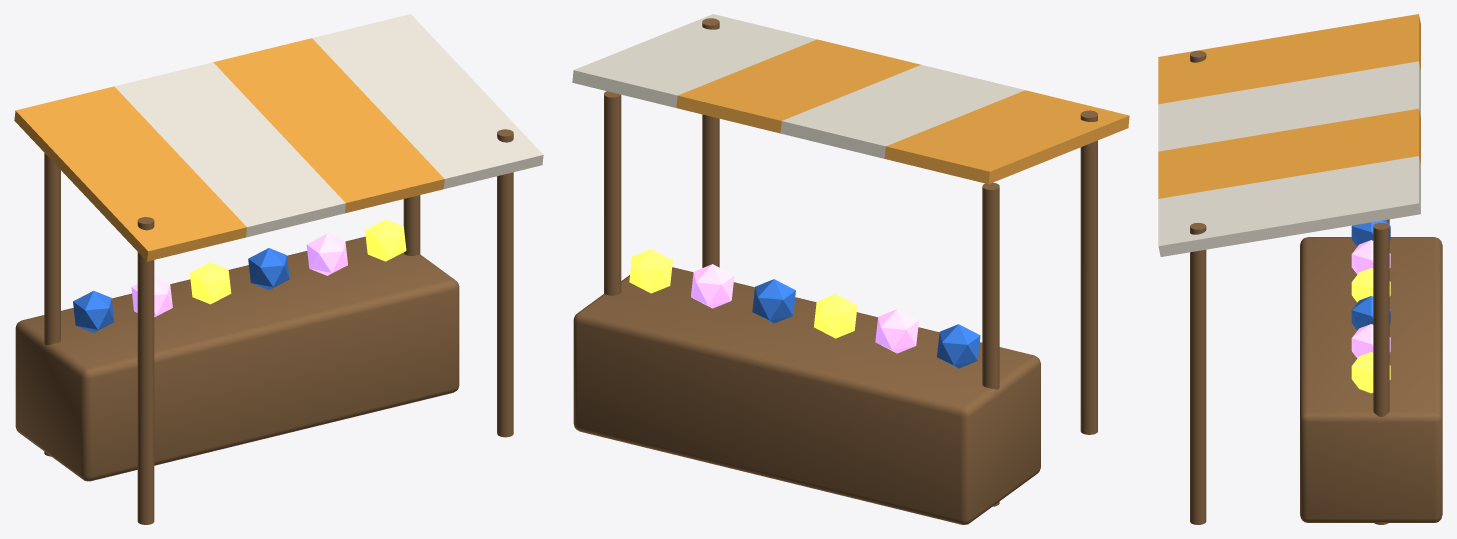
The model's file is town_stall.glb.
3 views of the same model, side by side, from view 1: azimuth 30°, elevation 25°; view 2: azimuth 150°, elevation 25°; view 3: azimuth 270°, elevation 25° (orthographic). The views are drawn at different scales.
Parts seen in each view (by area): view 1: Counter, Awn0, Awn1, Awn2, Awn3, Post-2.0-0.9, Post2.0-0.9, Post-2.00.9, Good3, Good2, Good4, Good0 (+3 smaller); view 2: Counter, Awn0, Awn2, Awn1, Awn3, Post-2.0-0.9, Post-2.00.9, Post2.00.9, Post2.0-0.9, Good3, Good0, Good4 (+3 smaller); view 3: Counter, Awn3, Awn2, Awn1, Awn0, Post2.0-0.9, Post2.00.9, Good5, Good1, Good2, Good3, Good4 (+1 smaller).
Boxes of the visible parts, <box> form: Counter: <box>15,236,459,481</box>; Awn0: <box>14,86,246,261</box>; Awn1: <box>114,62,345,237</box>; Awn2: <box>213,38,444,213</box>; Awn3: <box>312,14,543,188</box>; Post-2.0-0.9: <box>137,217,154,524</box>; Post2.0-0.9: <box>497,129,513,437</box>; Post-2.00.9: <box>44,153,60,456</box>; Good3: <box>248,248,289,289</box>; Good2: <box>189,262,231,304</box>; Good4: <box>306,233,347,275</box>; Good0: <box>73,290,114,332</box>; Counter: <box>573,267,1040,524</box>; Awn0: <box>884,90,1129,184</box>; Awn2: <box>676,39,920,133</box>; Awn1: <box>780,65,1024,158</box>; Awn3: <box>572,14,816,107</box>; Post-2.0-0.9: <box>1080,110,1097,434</box>; Post-2.00.9: <box>982,182,999,506</box>; Post2.00.9: <box>604,91,621,295</box>; Post2.0-0.9: <box>702,18,719,267</box>; Good3: <box>752,279,795,323</box>; Good0: <box>937,324,980,368</box>; Good4: <box>691,264,734,308</box>; Counter: <box>1300,237,1442,522</box>; Awn3: <box>1158,156,1420,256</box>; Awn2: <box>1158,108,1420,198</box>; Awn1: <box>1158,61,1420,151</box>; Awn0: <box>1158,14,1420,104</box>; Post2.0-0.9: <box>1190,223,1206,524</box>; Post2.00.9: <box>1373,223,1389,524</box>; Good5: <box>1351,352,1390,393</box>; Good1: <box>1351,240,1390,274</box>; Good2: <box>1351,268,1390,302</box>; Good3: <box>1351,296,1390,330</box>; Good4: <box>1351,324,1390,358</box>.
Size of the model in its own units: 4.4 by 3.54 by 2.79.
